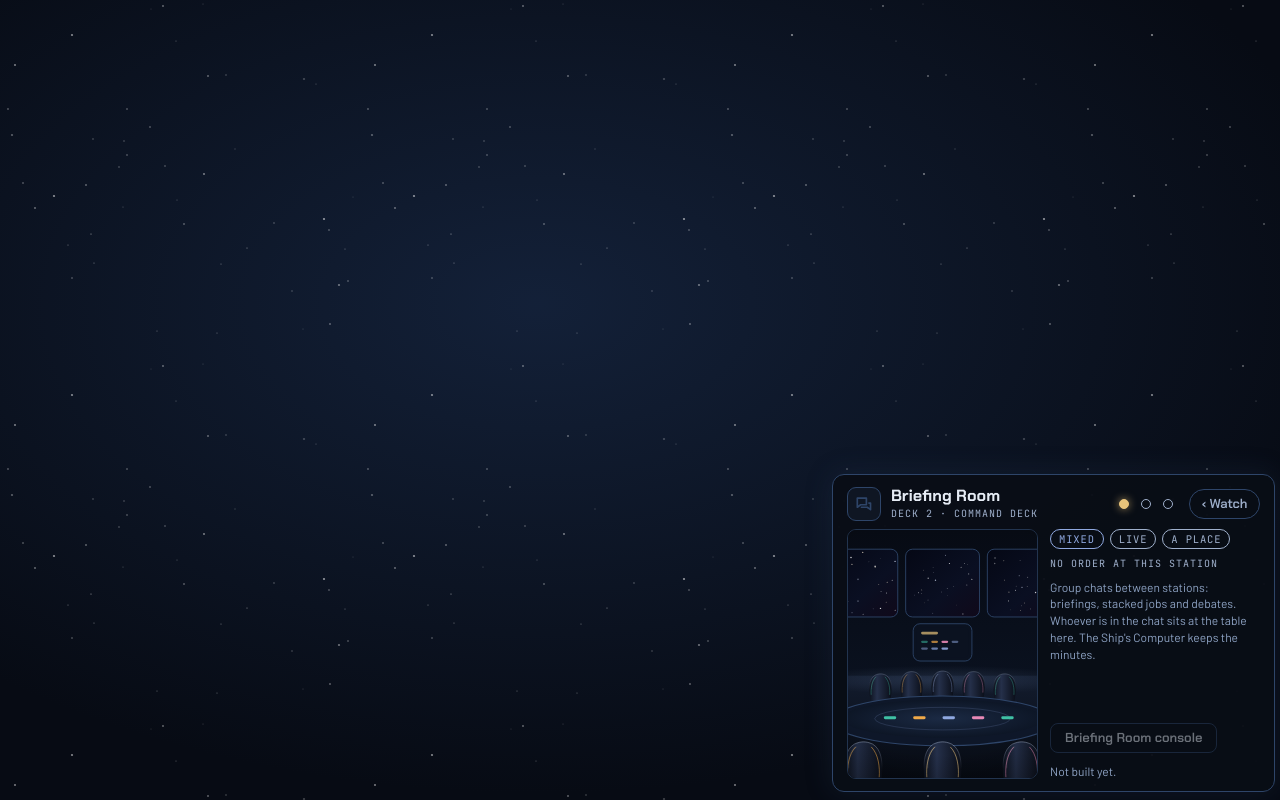
Test: place logs › the Briefing Room lists its meetings with who attended and what was agreed
Click the button named "Page 3: Meetings" at (1168, 504), box [1157, 493, 1179, 515]
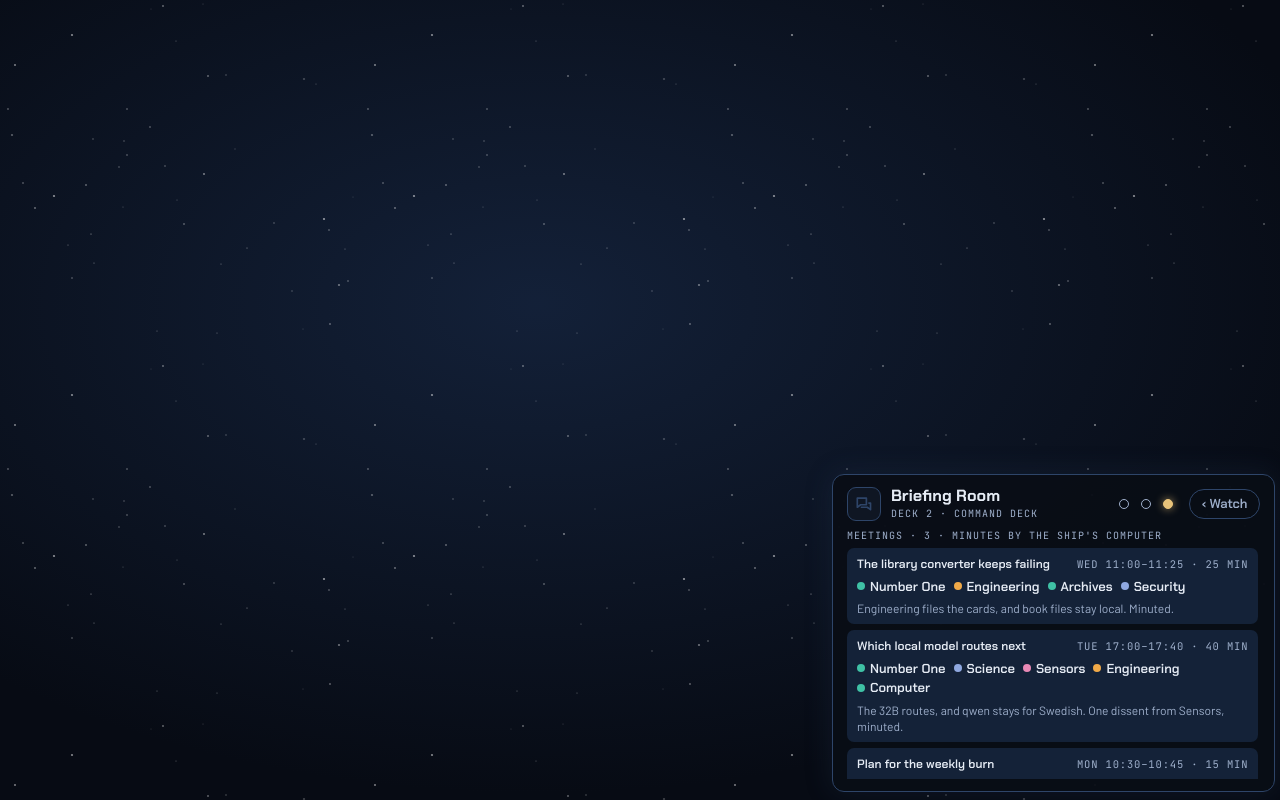
Expected: the number of list items with class "meet" is 3
Expected: the element with class "meet-who" shows "Engineering", [966, 578, 1040, 595]
Expected: the text with class "meet-outcome" shows "Minuted", [857, 601, 1174, 615]
